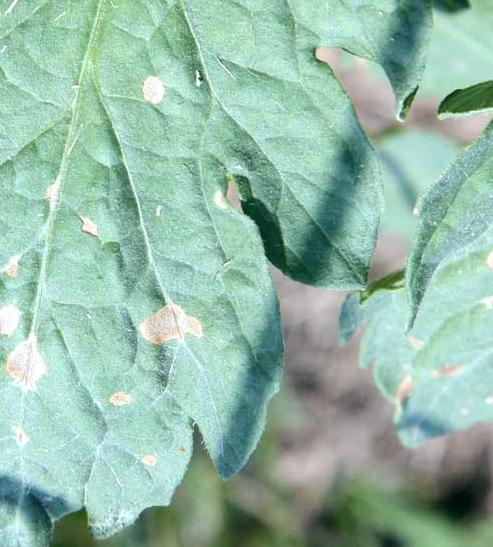Tomato leaf bacterial spot: (0, 0, 433, 547)
